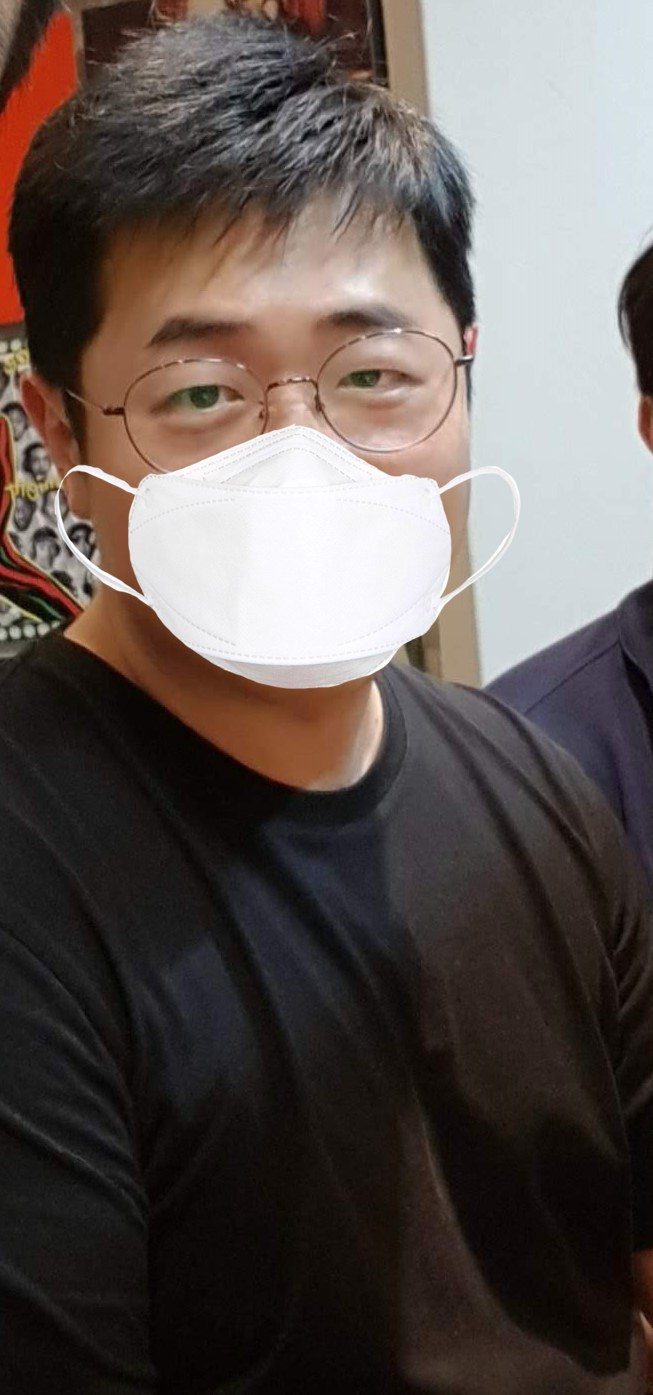mask: (77, 201, 471, 695)
